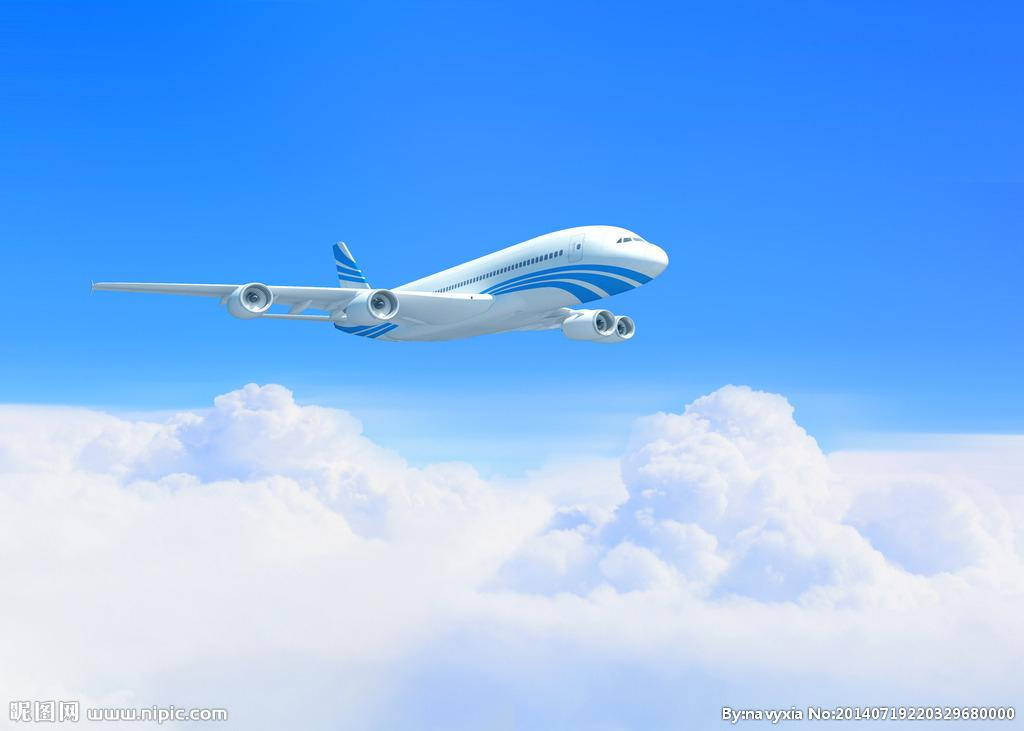airplane: (87, 208, 679, 350)
